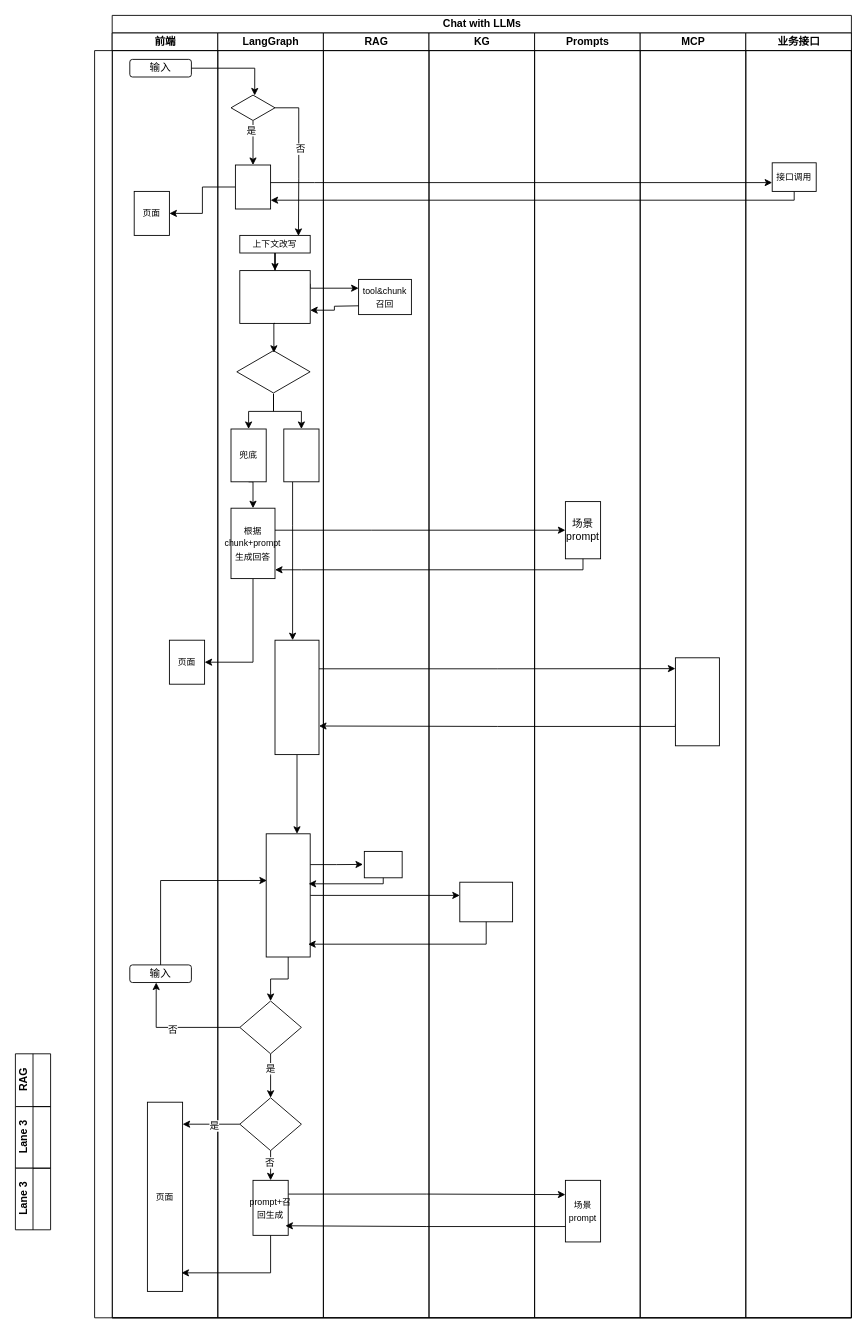
This 867x1333 diagram has some shape labels left out. The shapes that lost their labels are listed below. From the top down, each one's centre as x and y in pixels, then its label:
(252,107): 关键字干预
(253,186): 业务客户端
(274,296): 输入召回
(273,371): 意图判别
(301,455): 明确场景
(296,697): 召回工具
(697,701): Mcp Servers
(382,864): chunk召回
(287,895): 业务填槽，数据读写
(486,901): KG数据 查询
(270,1027): 信息确认与补充是否完成
(270,1124): 是否原样输出
